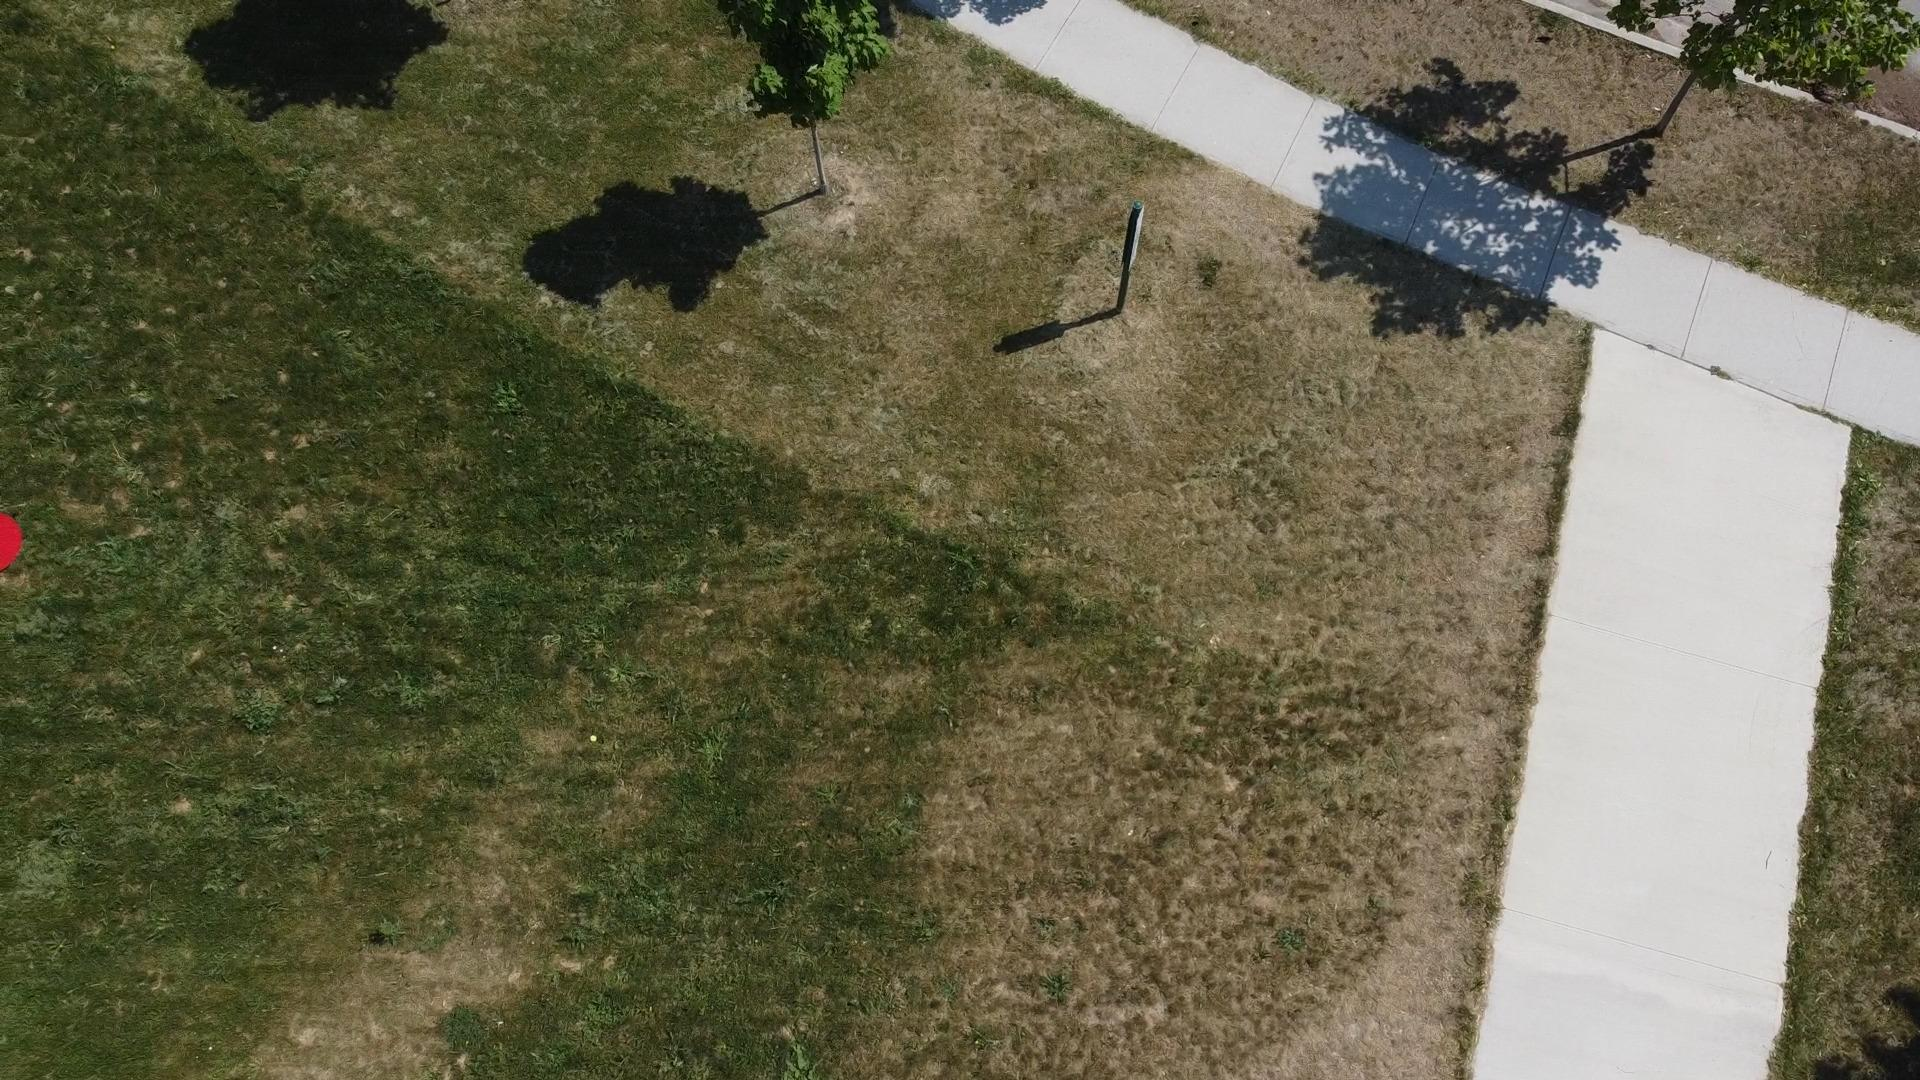Red: (0, 508, 25, 575)
